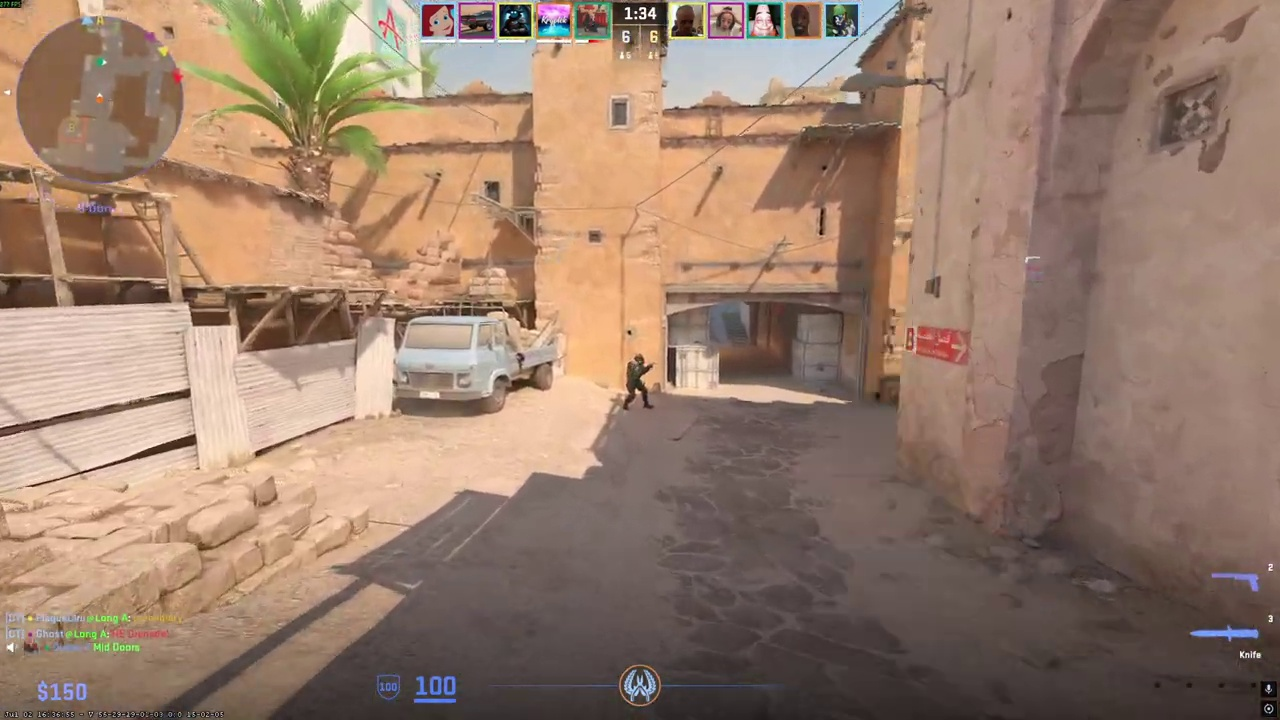CT: (624, 354, 651, 411)
